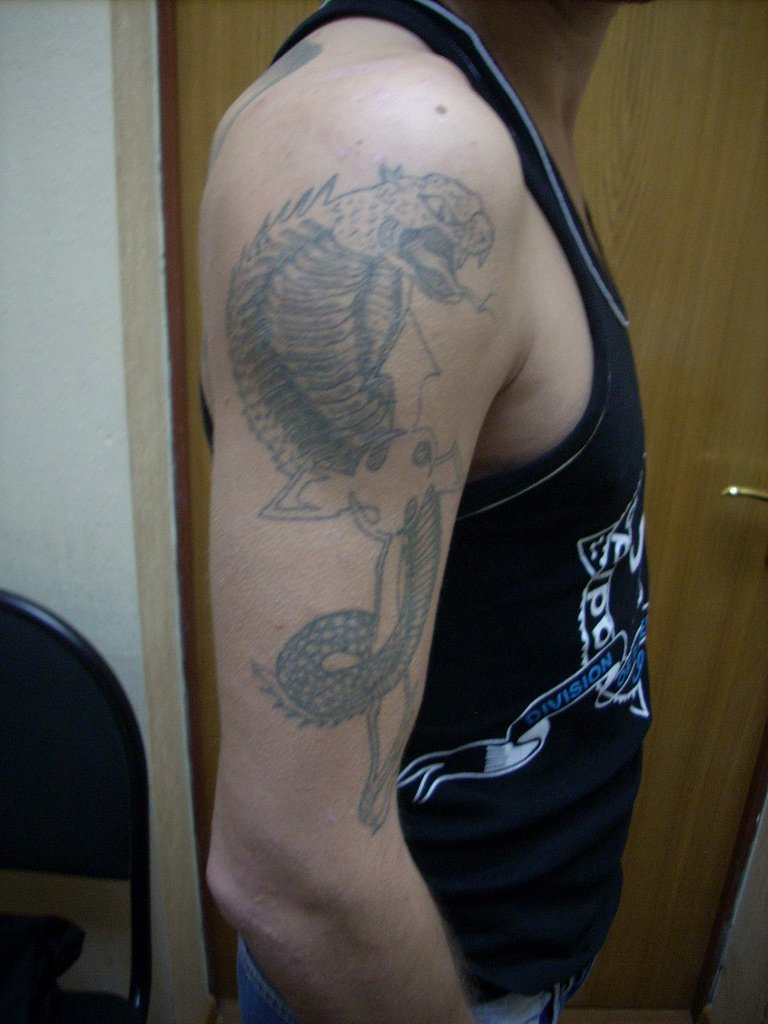tatu7_zmeya: (175, 163, 510, 857)
tatu9_krest: (263, 318, 475, 860)
